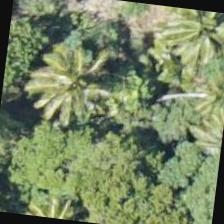Kelapa_Sawit: (19, 48, 119, 148), (164, 47, 223, 145), (147, 4, 223, 78)
